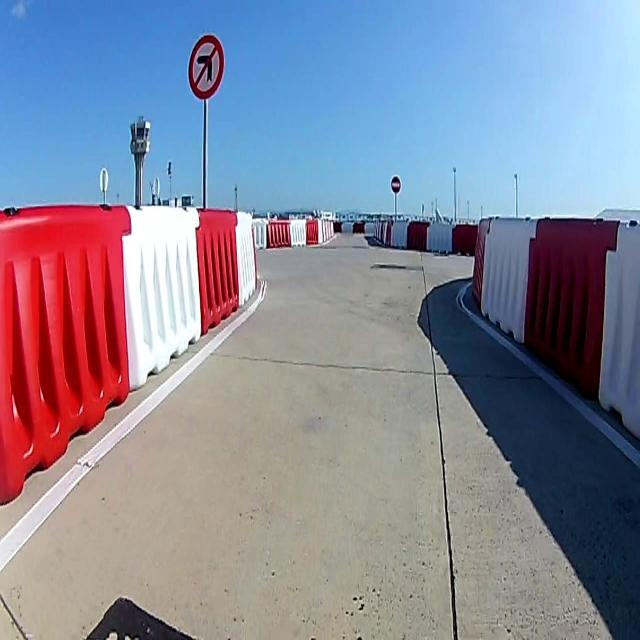soladonulmez: (188, 34, 224, 99)
